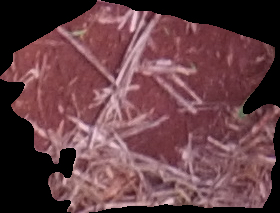soil: (3, 4, 279, 212)
